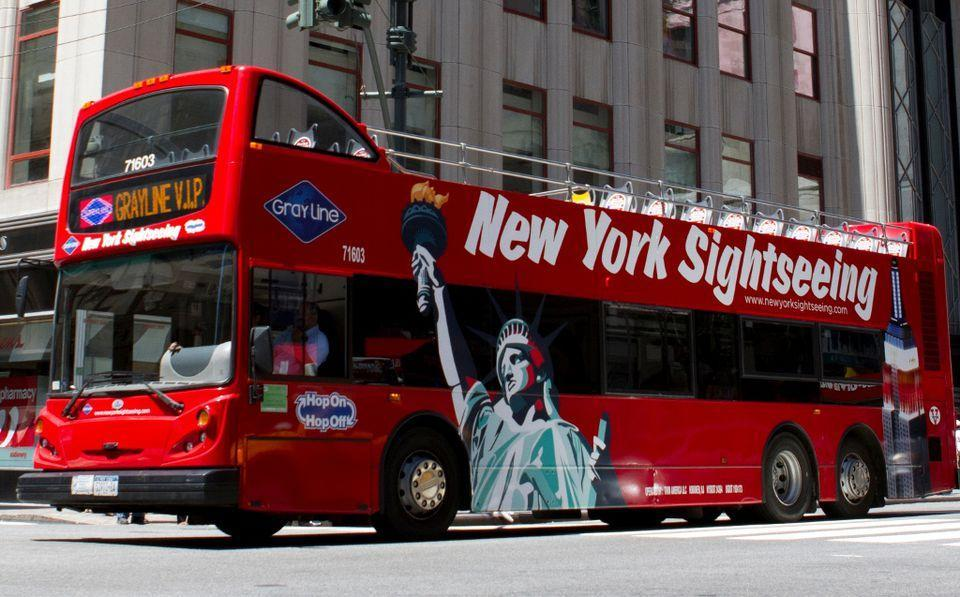Bus: (2, 65, 959, 543)
